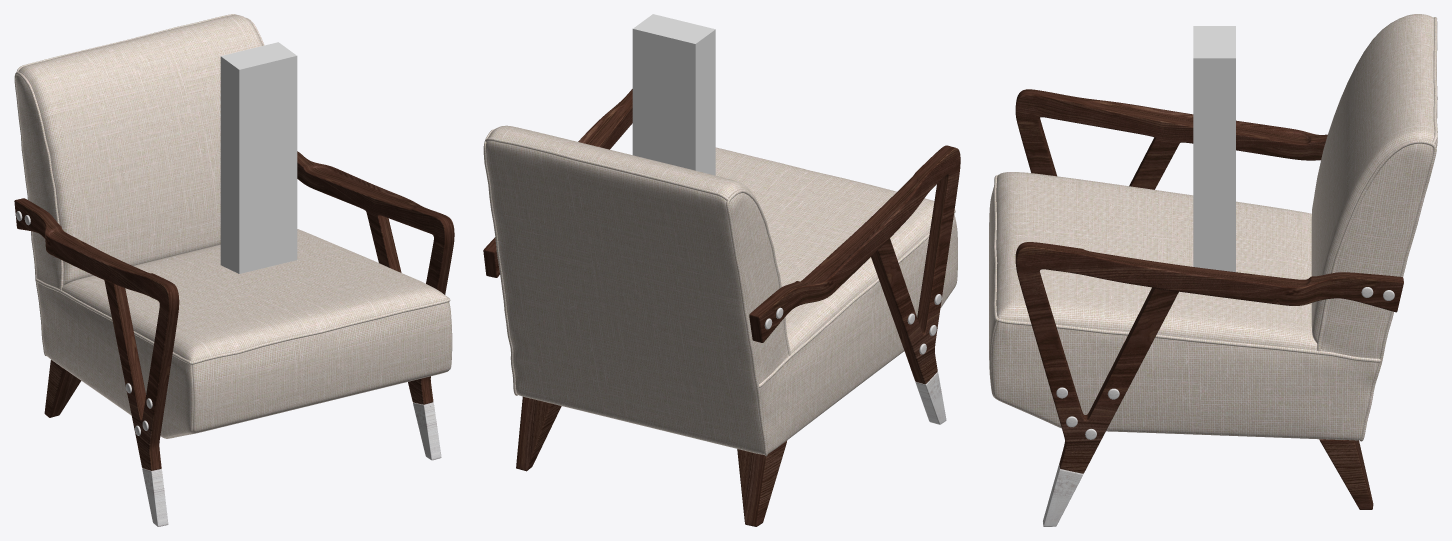
The picture shows the model from 3 angles, left to right: view 1: azimuth 30°, elevation 25°; view 2: azimuth 150°, elevation 25°; view 3: azimuth 270°, elevation 25°; orthographic projection. The views are drawn at different scales.
Visible parts, largest first — view 1: kumas, KOL, Cube, dugme; view 2: kumas, KOL, Cube, dugme; view 3: kumas, KOL, Cube, dugme.
Part boxes in pixels (bbox=[...]): kumas: bbox=[14, 14, 452, 438]; KOL: bbox=[14, 151, 454, 470]; Cube: bbox=[220, 42, 297, 273]; dugme: bbox=[16, 211, 441, 526]; kumas: bbox=[483, 125, 957, 456]; KOL: bbox=[483, 89, 960, 526]; Cube: bbox=[632, 14, 715, 175]; dugme: bbox=[764, 294, 946, 424]; kumas: bbox=[989, 14, 1437, 441]; KOL: bbox=[1015, 89, 1403, 509]; Cube: bbox=[1193, 26, 1235, 272]; dugme: bbox=[1043, 287, 1394, 526].
Bounding box in the file's own units: 0.7038 × 0.8653 × 0.8276.
Materials: 3 (3 with a texture image).
